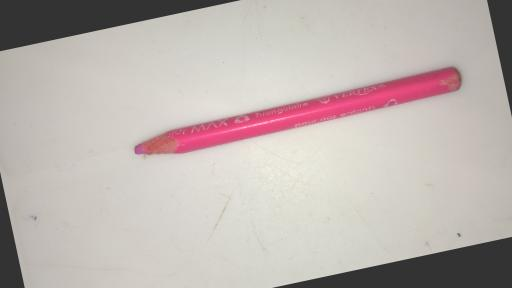Pencil: (130, 64, 466, 162)
